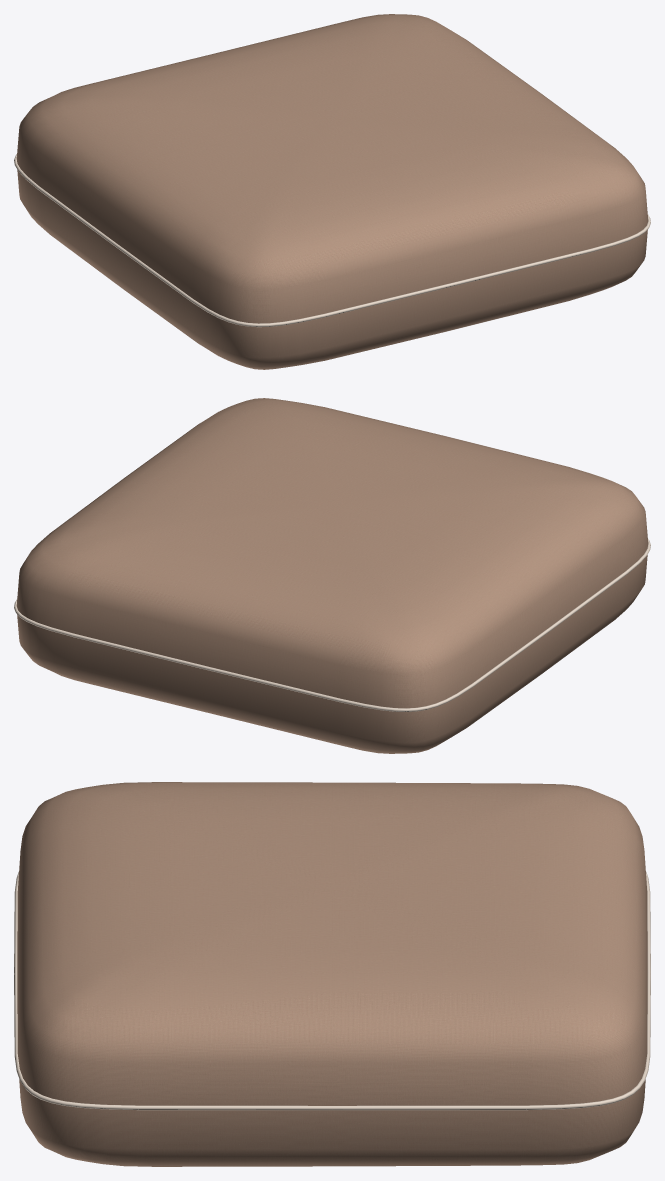
The model's file is contemporary.cushion.gltf.
The picture shows the model from 3 angles, top to bottom: view 1: azimuth 30°, elevation 25°; view 2: azimuth 150°, elevation 25°; view 3: azimuth 270°, elevation 25°; orthographic projection. The views are drawn at different scales.
Visible parts, largest first — view 1: contemporary.cushion.cushion; view 2: contemporary.cushion.cushion; view 3: contemporary.cushion.cushion.
Part boxes in pixels (<box>): contemporary.cushion.cushion: <box>14,14,650,369</box>; contemporary.cushion.cushion: <box>14,398,650,753</box>; contemporary.cushion.cushion: <box>14,782,650,1166</box>.
Size of the model in its own units: 0.4745 by 0.15 by 0.4745.
2 materials, 1 textured.
